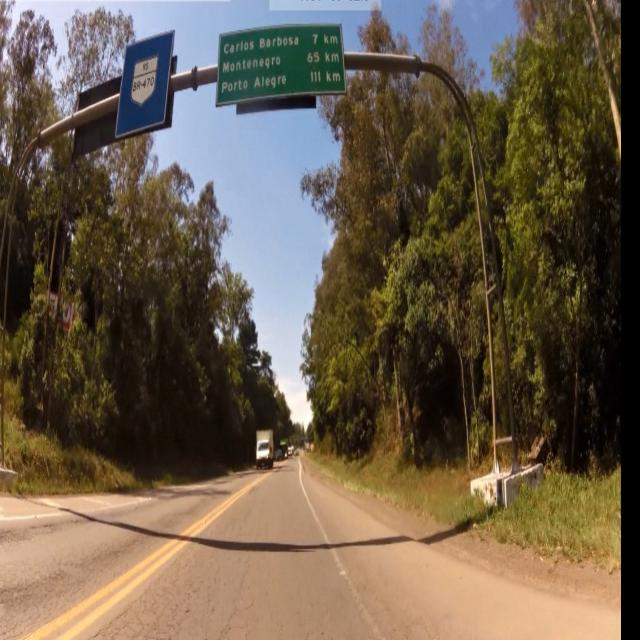I-4: (221, 36, 342, 97)
